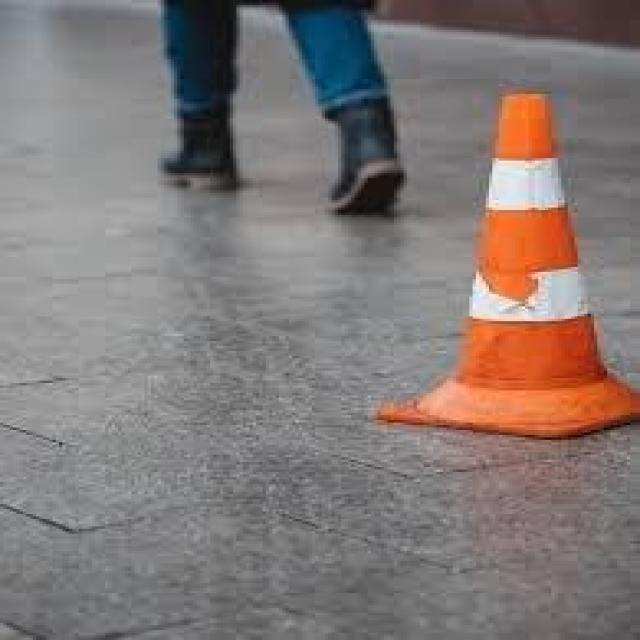cone: (368, 89, 638, 436)
